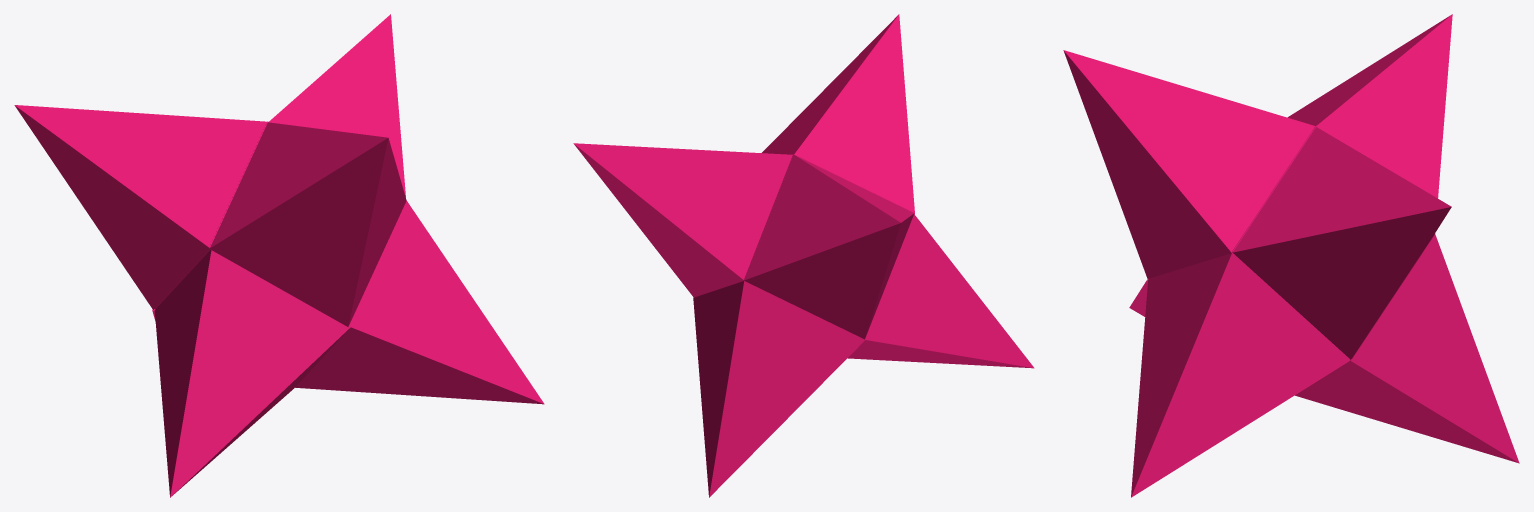
Rendered from star.glb.
The picture shows the model from 3 angles, left to right: view 1: azimuth 30°, elevation 25°; view 2: azimuth 150°, elevation 25°; view 3: azimuth 270°, elevation 25°; orthographic projection. The views are drawn at different scales.
Visible parts, largest first — view 1: Star; view 2: Star; view 3: Star.
Part boxes in pixels (x1,y1,x2,y2): Star: [14, 14, 544, 497]; Star: [573, 14, 1034, 497]; Star: [1063, 14, 1519, 497].
Size of the model in its own units: 5.45 by 5.46 by 5.46.
